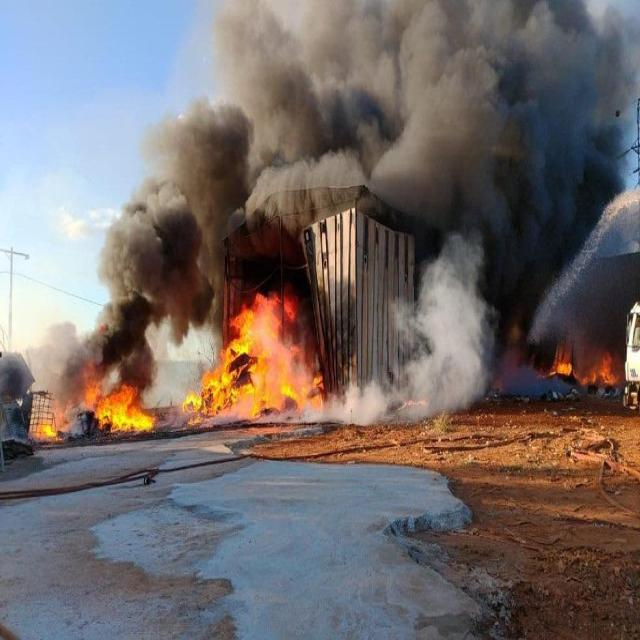fire: (207, 319, 256, 406), (89, 384, 146, 437)
smoke: (211, 15, 616, 206), (413, 222, 525, 411), (123, 164, 210, 312)
